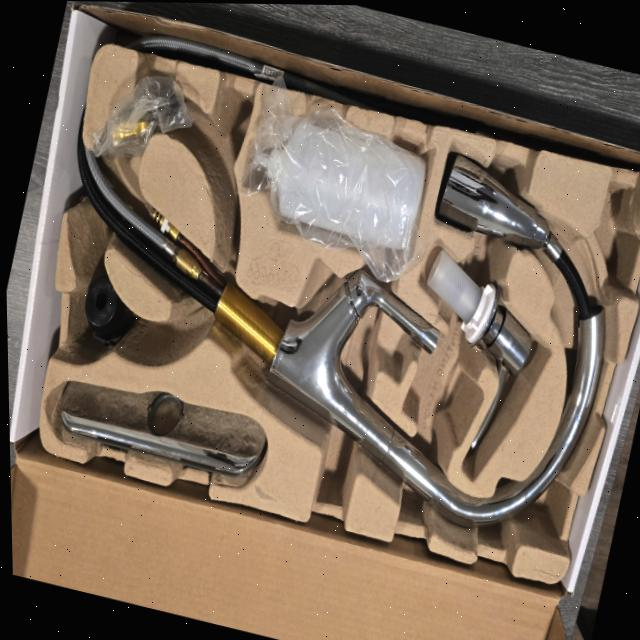1: (75, 152, 602, 528)
2: (424, 248, 535, 450)
3: (245, 111, 426, 247)
4: (56, 381, 266, 474)
5: (80, 274, 134, 344)
6: (81, 73, 188, 161)
7m: (187, 83, 251, 230)
